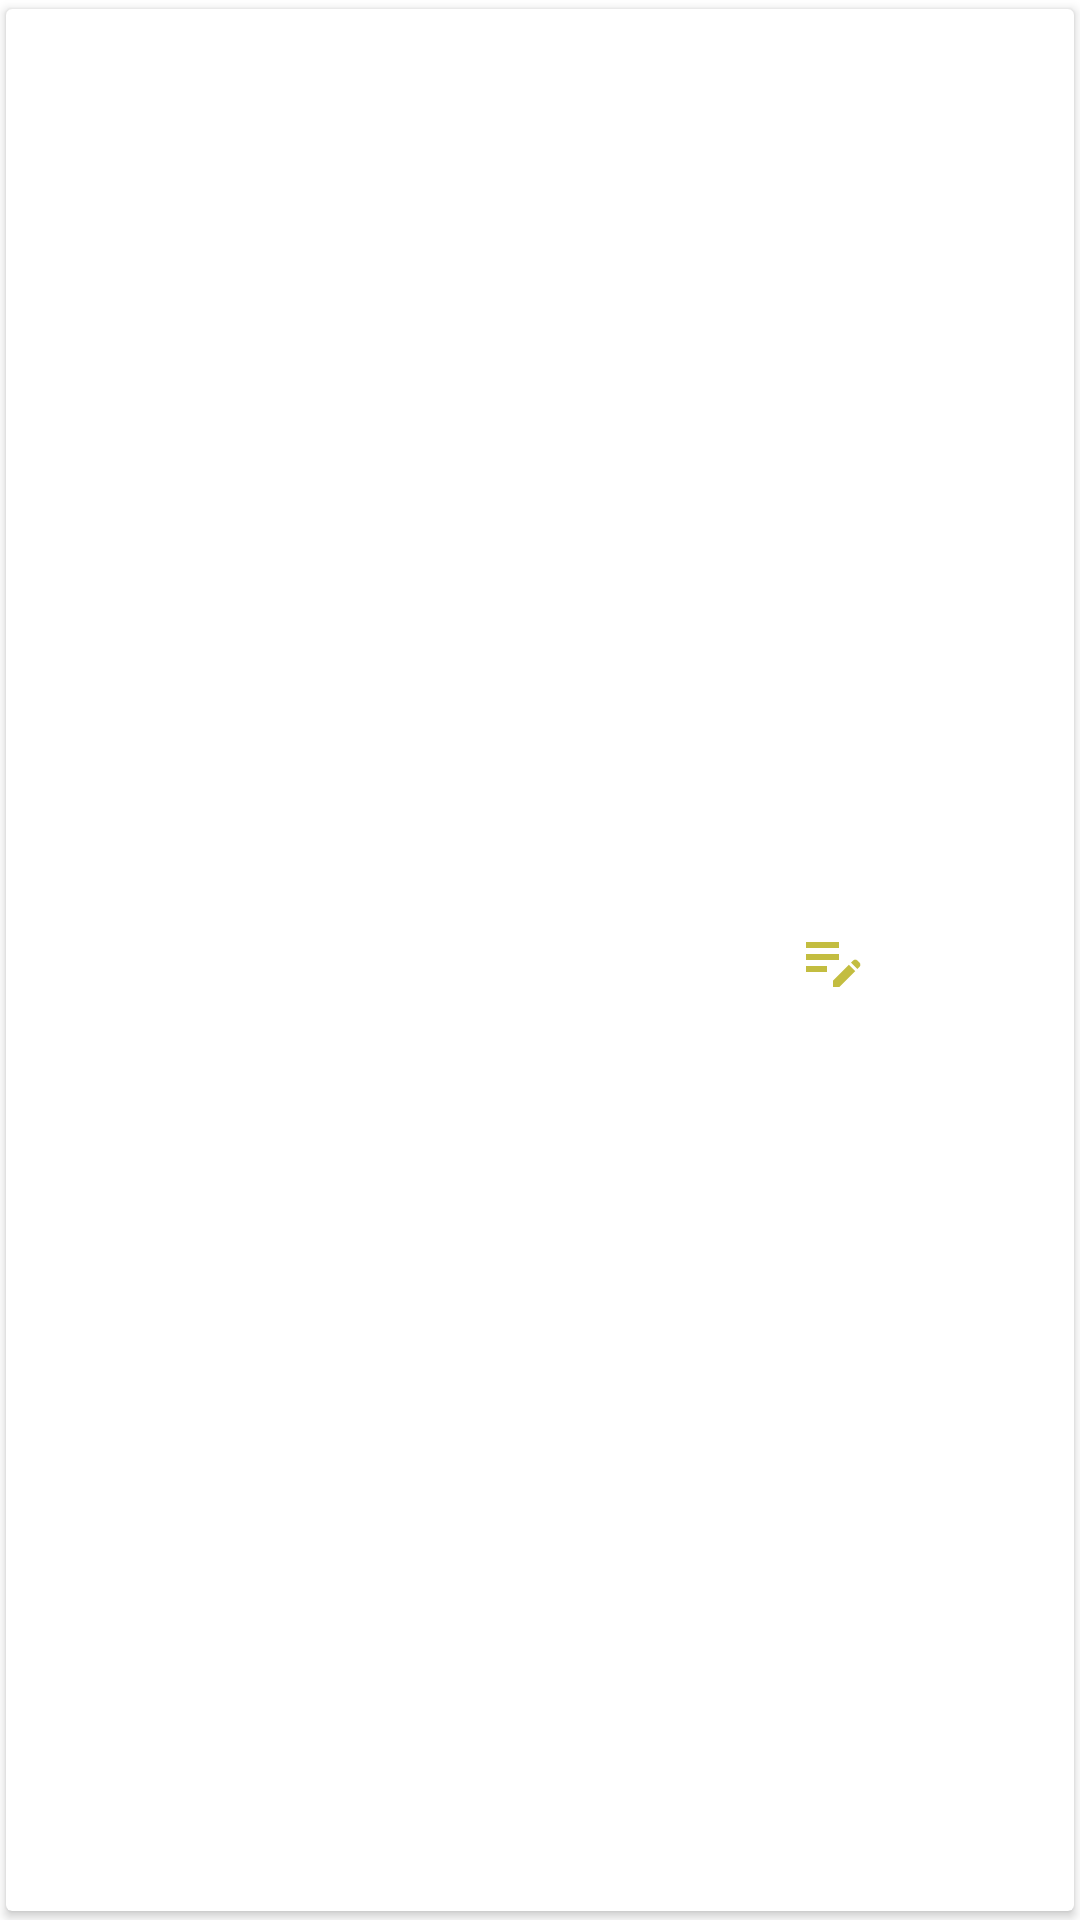

Named icons in this screenshot (1080 x 1920) and their centers, [x,y]:
update task: [833,964]
